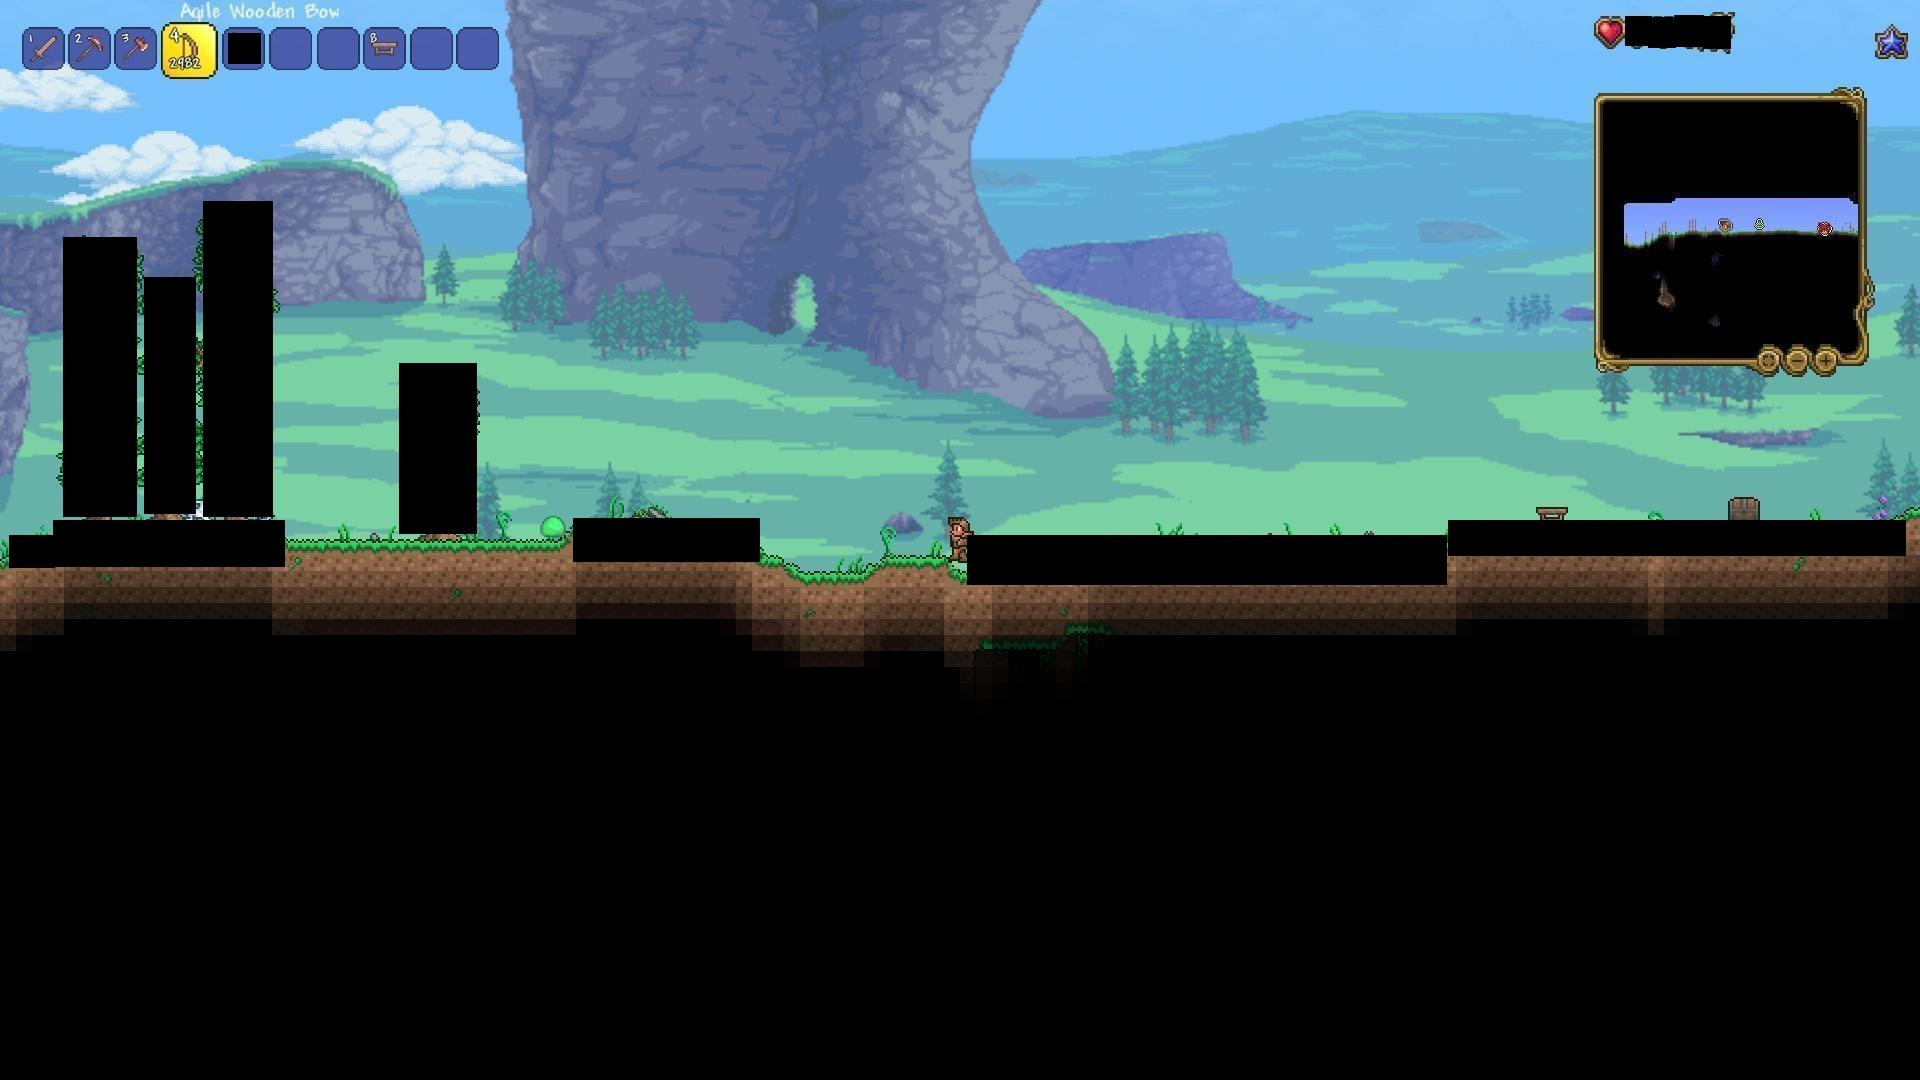dirt: (287, 535, 567, 574), (764, 558, 965, 589)
heart: (1596, 15, 1625, 44)
slime: (541, 514, 567, 537)
workbench: (367, 37, 404, 62), (1534, 504, 1571, 529)
